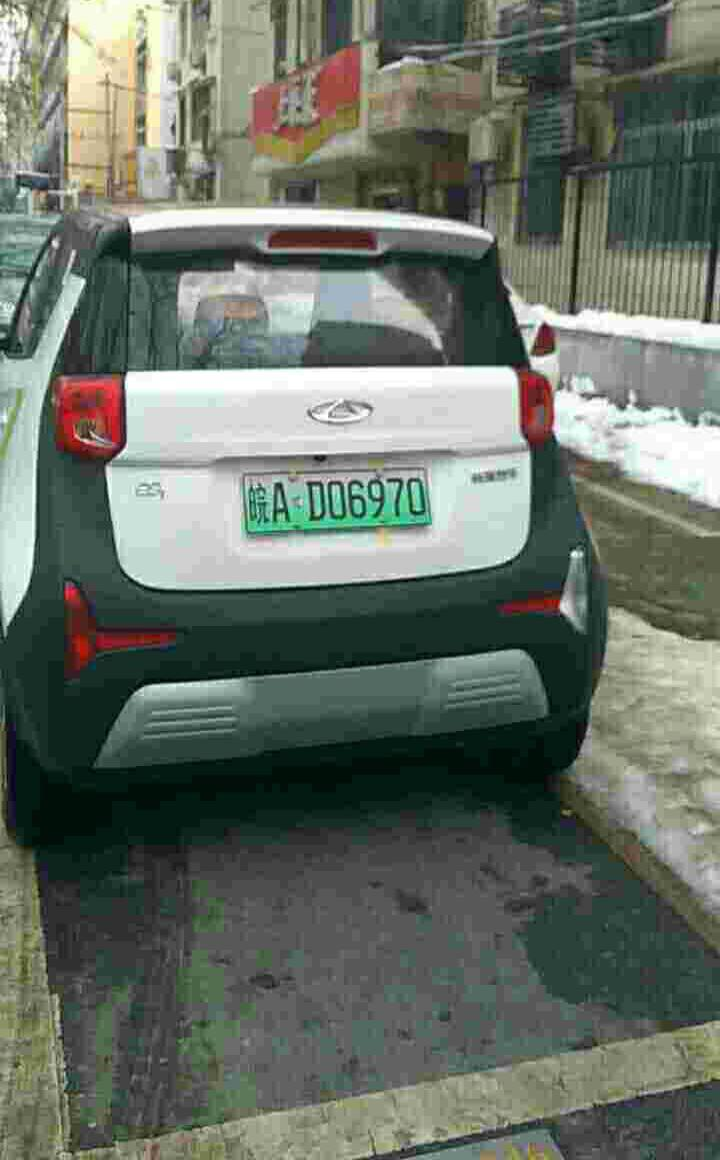car_green: (238, 466, 435, 532)
